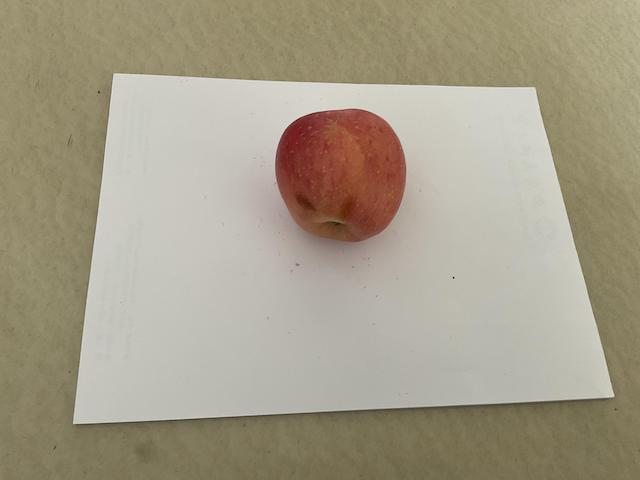apple: (270, 102, 412, 249)
